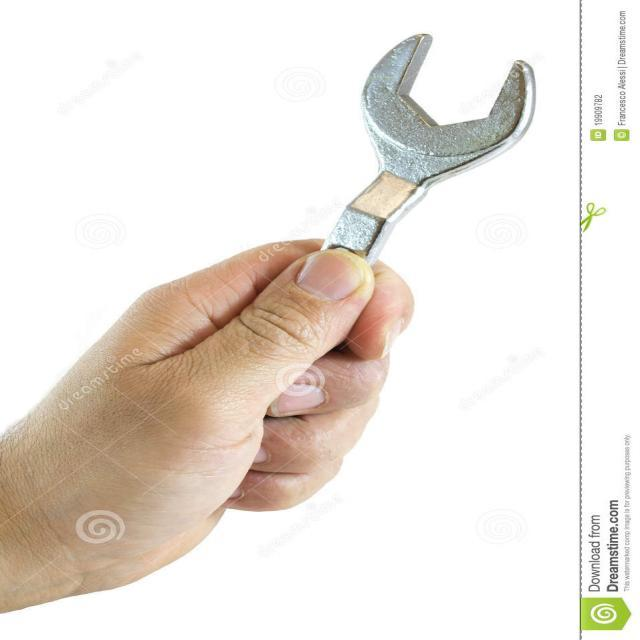wrench: (313, 27, 542, 263)
